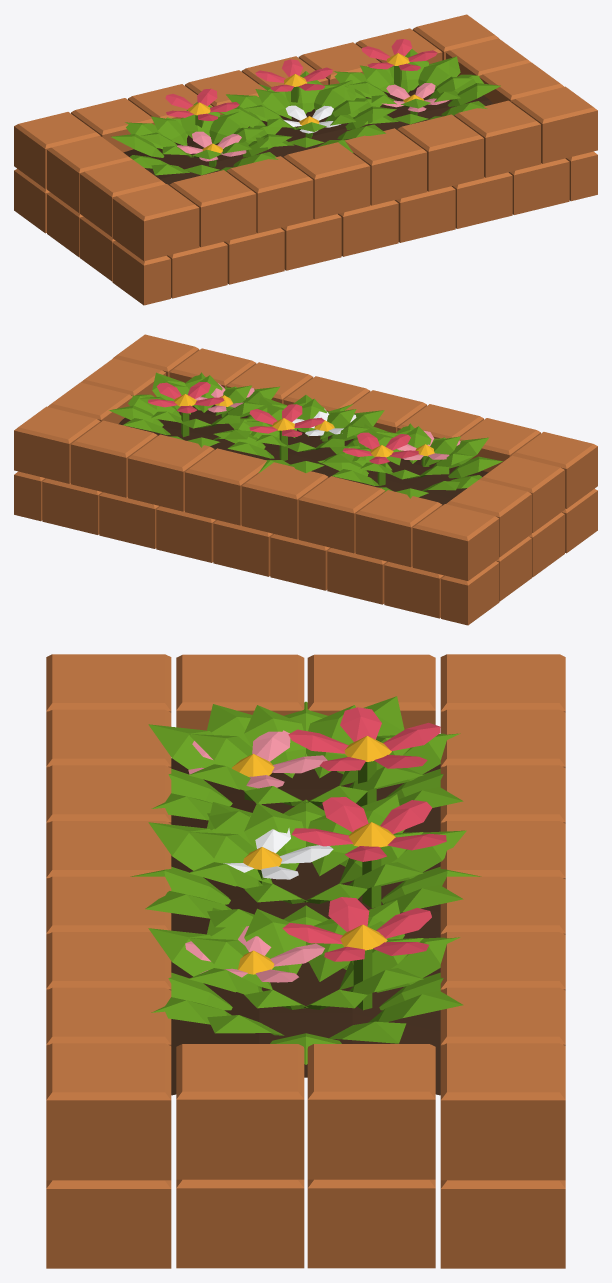
Rendered from flower bed.fbx.
The picture shows the model from 3 angles, top to bottom: view 1: azimuth 30°, elevation 25°; view 2: azimuth 150°, elevation 25°; view 3: azimuth 270°, elevation 25°; orthographic projection. The views are drawn at different scales.
Visible parts, largest first — view 1: Flower_Bed; view 2: Flower_Bed; view 3: Flower_Bed.
Boxes of the visible parts, x1,y1,x2,y2 form: Flower_Bed: (14,14,597,305); Flower_Bed: (14,334,597,625); Flower_Bed: (46,654,565,1268).
Bounding box in the file's own units: 239 × 58.08 × 119.
